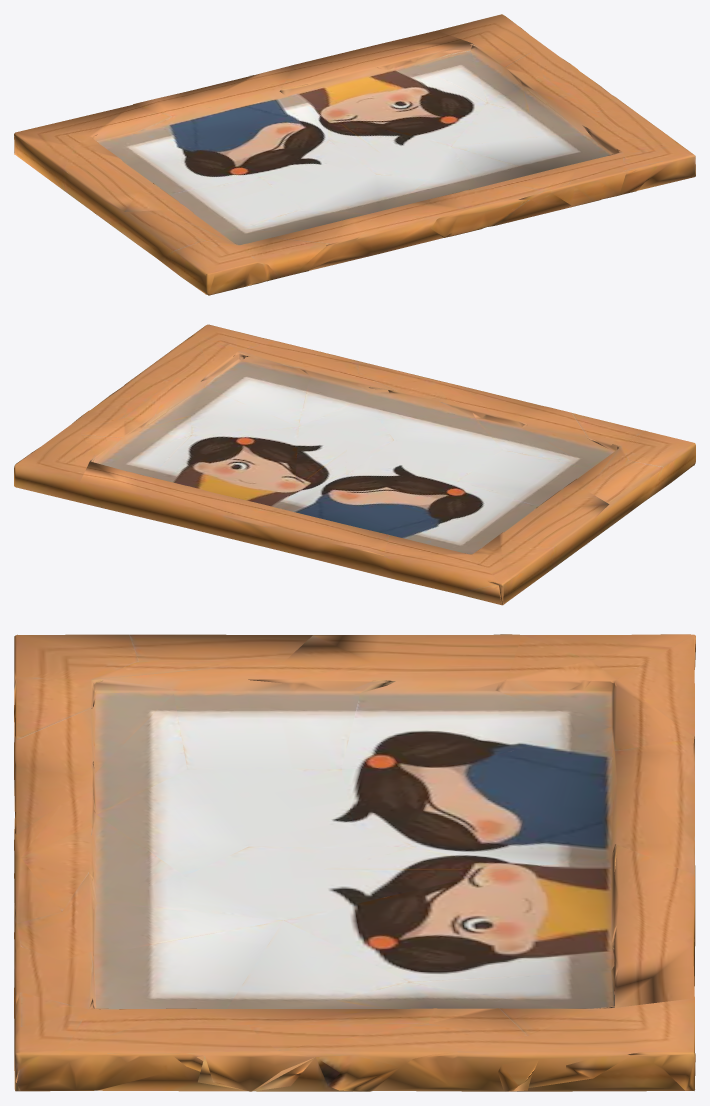
Rendered from photo-frame.glb.
3 views of the same model, one above another, from view 1: azimuth 30°, elevation 25°; view 2: azimuth 150°, elevation 25°; view 3: azimuth 270°, elevation 25° (orthographic). The views are drawn at different scales.
Size of the model in its own units: 2 by 0.0865 by 1.37.
Materials: 1 (1 with a texture image).
